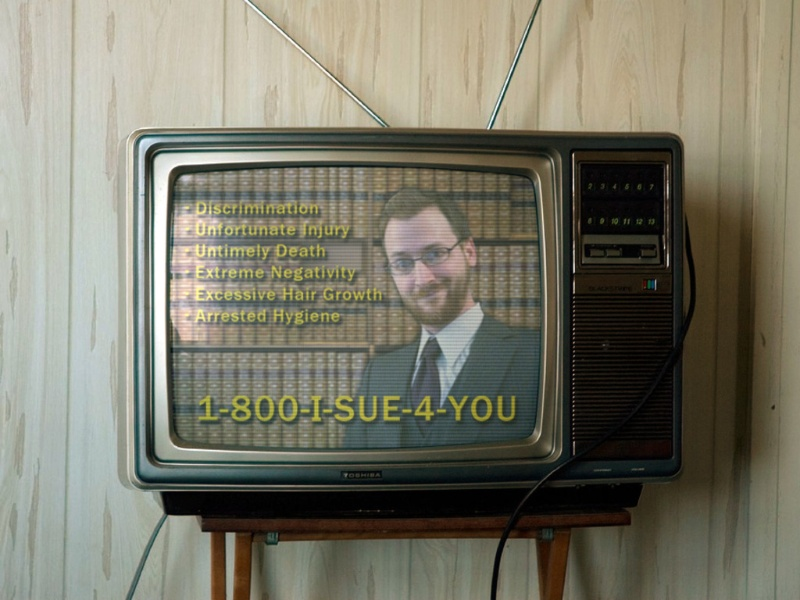tv: (104, 74, 706, 525)
